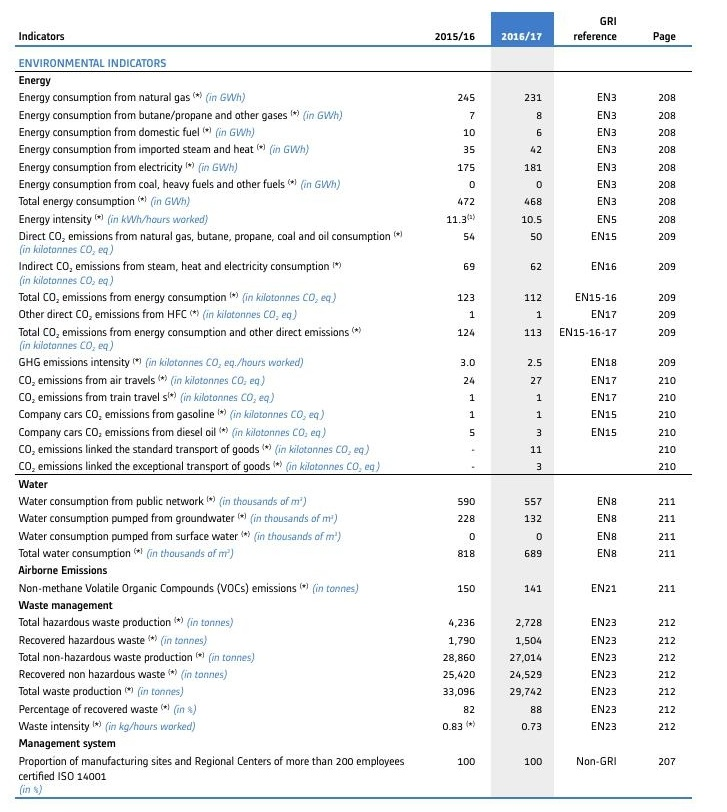table: (0, 0, 727, 812)
